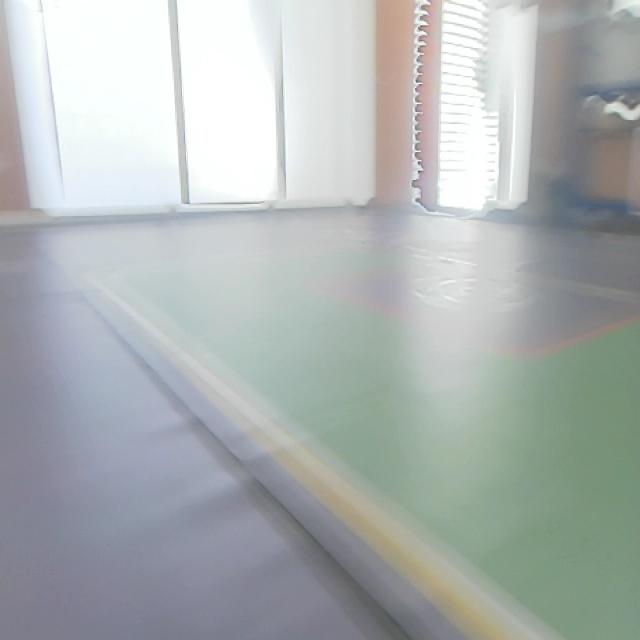right_lane: (82, 271, 527, 640)
